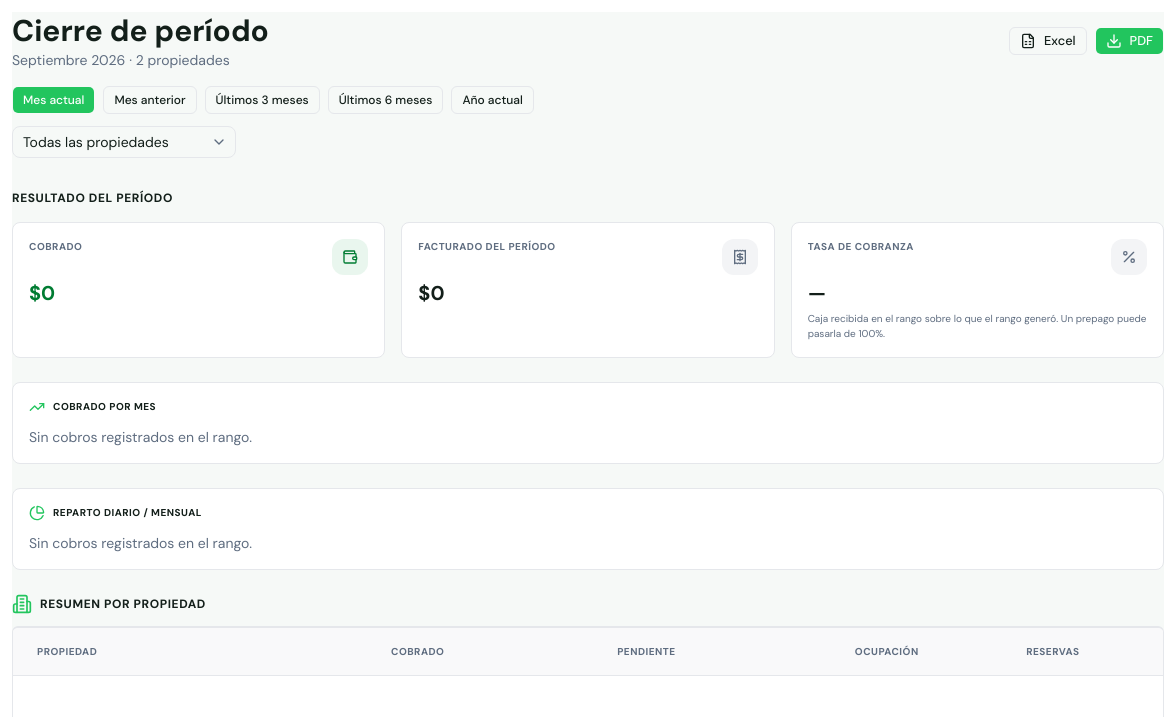
Test: ReportsClient - selector de propiedad (Select real, sin mock) › al elegir una propiedad, el disparador muestra su nombre, nunca su id
What coordinates should you click on to do the following:
click the dropdown labelled "Todas las propiedades ▼"
I would click on:
 (124, 142)
Its box is [12,126,236,158].
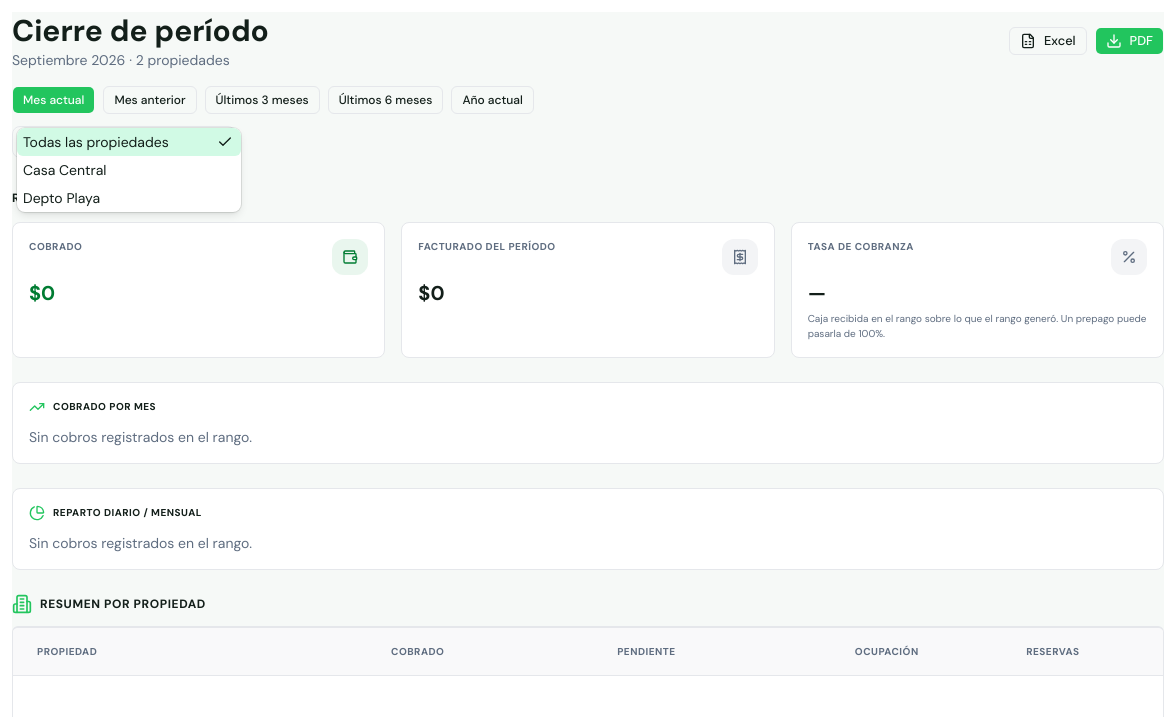
What coordinates should you click on to do the following:
click the option "Casa Central"
I would click on:
 (65, 170)
Its box is [23,160,106,178].
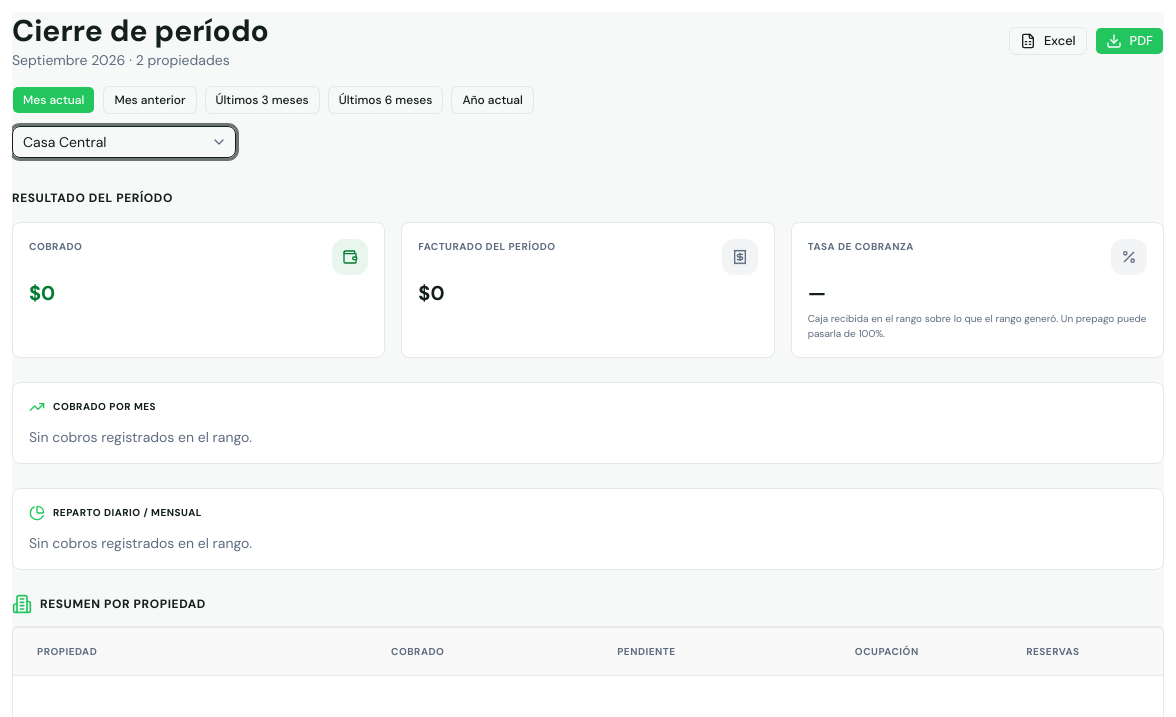
Result: the dropdown named "propiedad" shows "Casa Central" at [12,126,236,158]
